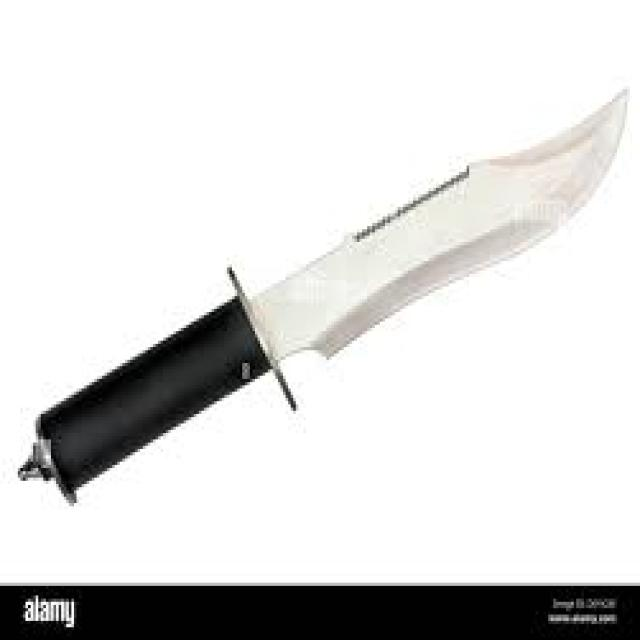Gun: (9, 83, 635, 483)
